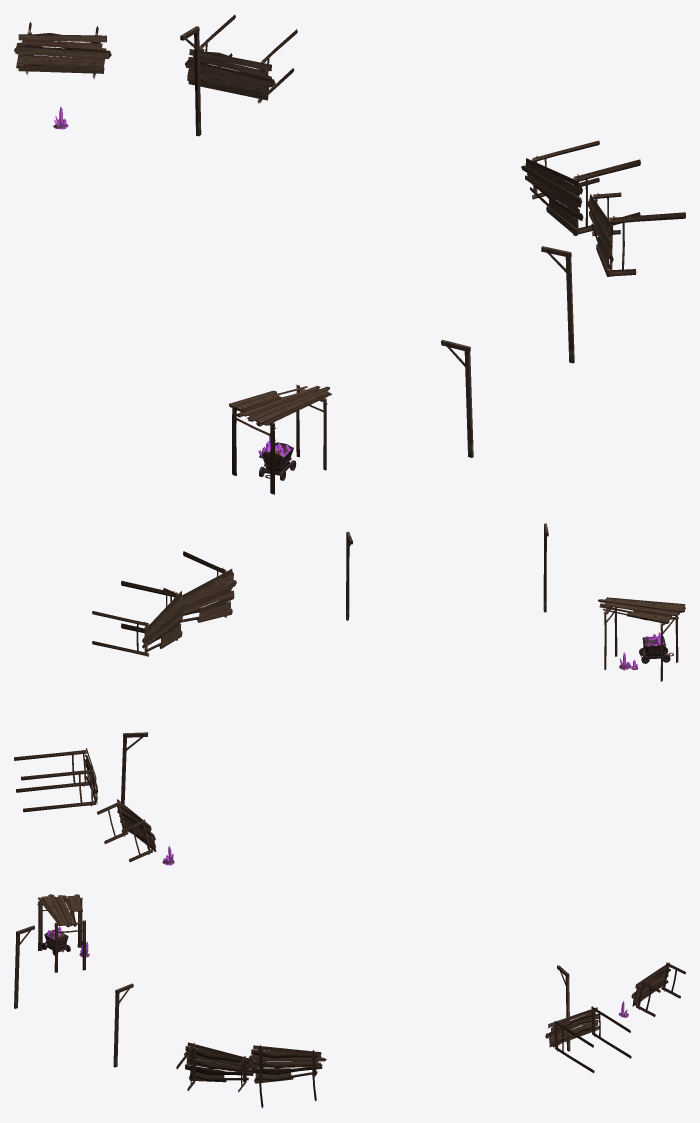
Rendered from area_11_shuijing.FBX.
3 renders of one model, top to bottom at view 1: azimuth 30°, elevation 25°; view 2: azimuth 150°, elevation 25°; view 3: azimuth 270°, elevation 25°, orthographic. The views are drawn at different scales.
Visible parts, largest first — view 1: area_11_shuijing; view 2: area_11_shuijing; view 3: area_11_shuijing.
Boxes of the visible parts, x1,y1,x2,y2 form: area_11_shuijing: (14,14,685,494); area_11_shuijing: (14,523,685,865); area_11_shuijing: (14,894,685,1108).
Bounding box in the file's own units: 4331 × 881 × 6648.
